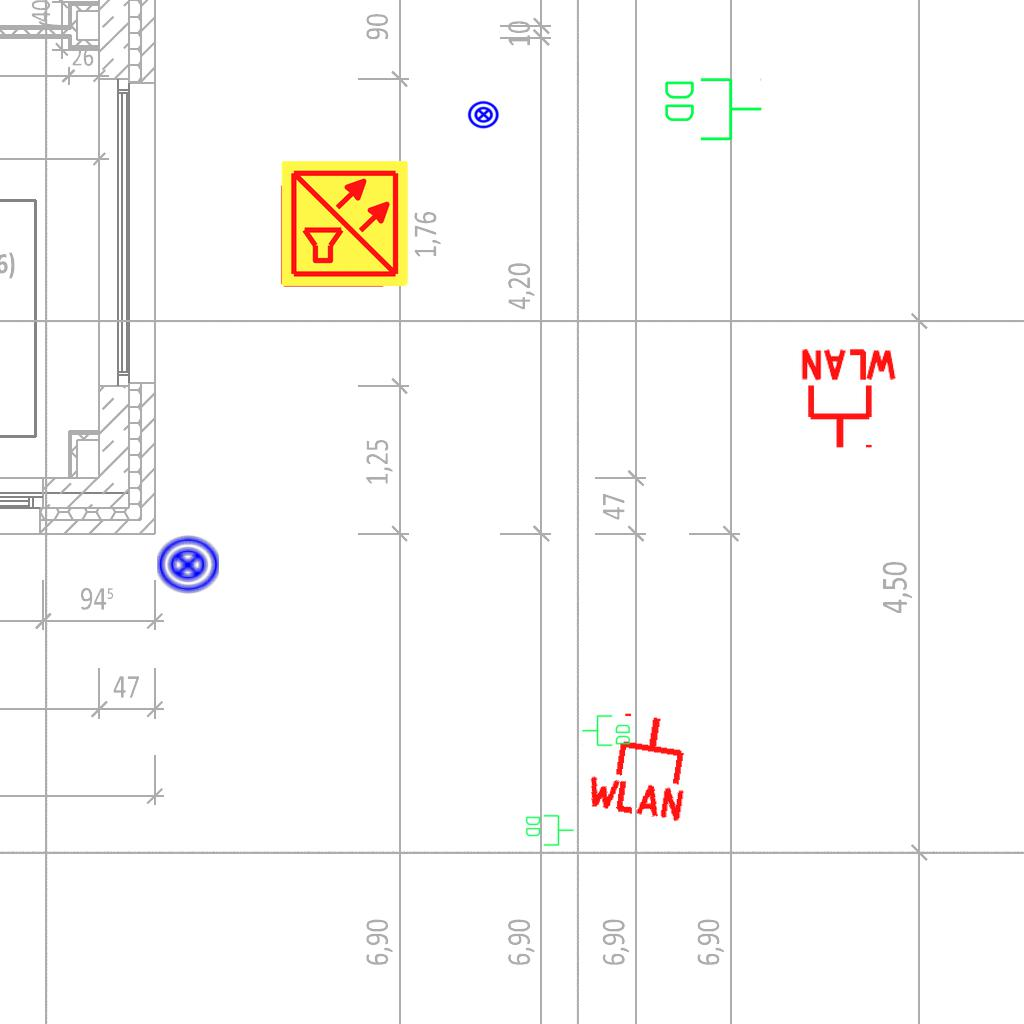Datenanschluss_zweifach: (661, 74, 764, 143), (524, 813, 575, 847), (581, 714, 632, 748)
OKW_Multisensormelder_(Kombination_optischer_Rauch-Kahlenmonoxid_Waerme-Melder): (279, 158, 411, 290)
Taster_beleuchtet: (155, 532, 221, 598), (467, 98, 500, 131)
WLAN: (580, 704, 701, 824), (797, 347, 901, 452)
